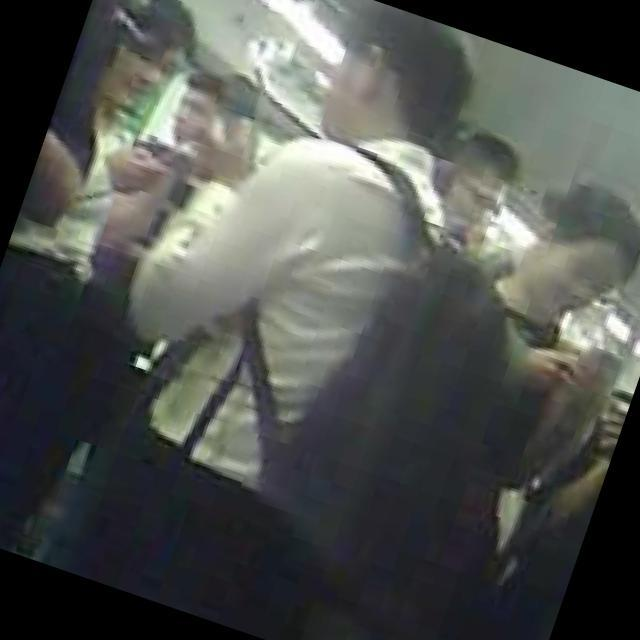person: (41, 0, 520, 640), (406, 161, 640, 603), (0, 0, 203, 366), (22, 0, 157, 232), (407, 116, 542, 290), (152, 56, 268, 195)
